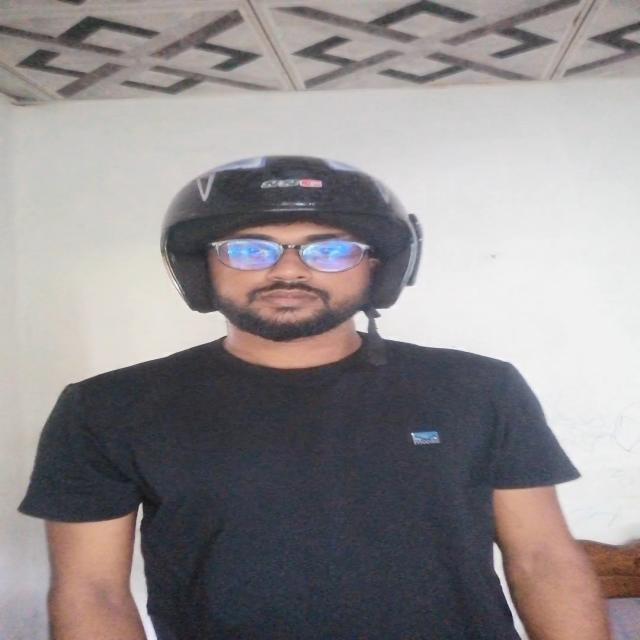Helmet_Wearer: (126, 152, 478, 403)
Person: (41, 146, 598, 640)
